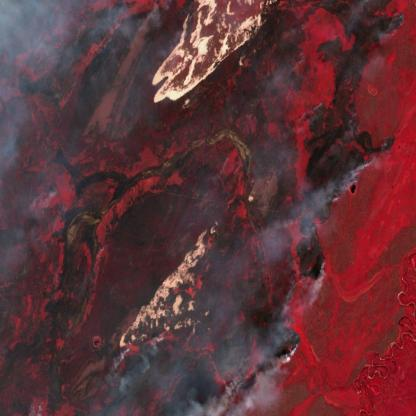fire: (171, 0, 410, 416)
